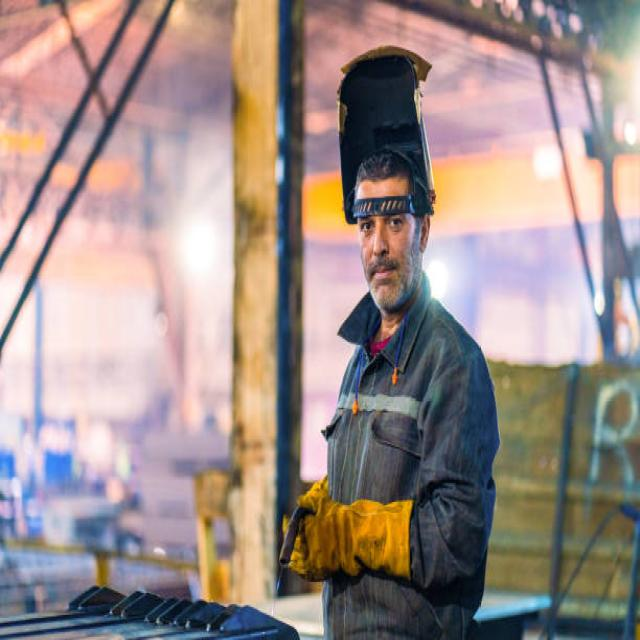Gloves: (279, 471, 418, 587)
person: (276, 43, 502, 640)
